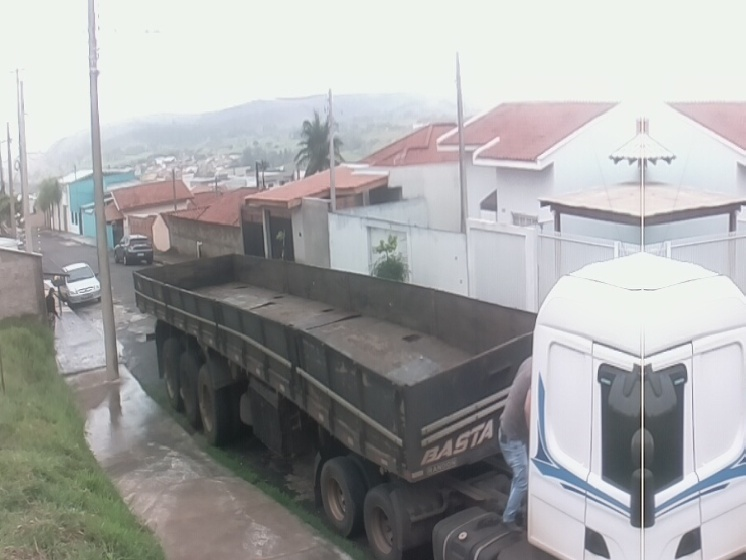person: (497, 352, 536, 535), (45, 287, 59, 338)
